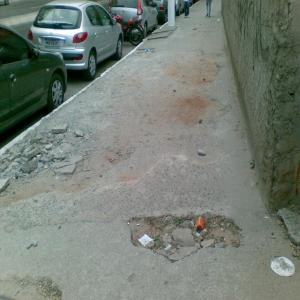Vehicle-registration-plate: (44, 38, 61, 49)
